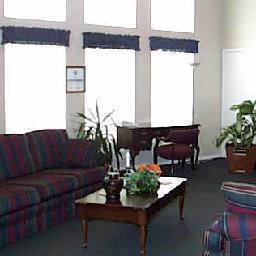Matera: (225, 102, 253, 171)
